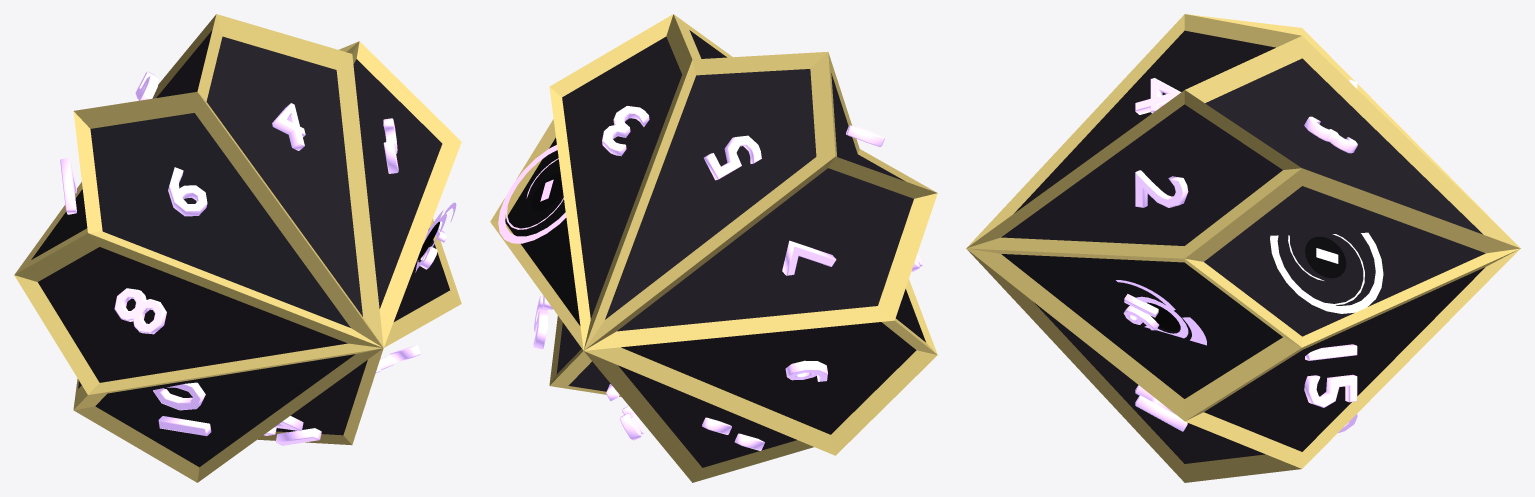
The model's file is d16_black_hole_gold.glb.
3 views of the same model, side by side, from view 1: azimuth 30°, elevation 25°; view 2: azimuth 150°, elevation 25°; view 3: azimuth 270°, elevation 25° (orthographic).
Visible parts, largest first — view 1: D16_BlackHole_Gold; view 2: D16_BlackHole_Gold; view 3: D16_BlackHole_Gold.
Part boxes in pixels (<box>): D16_BlackHole_Gold: <box>14,14,461,482</box>; D16_BlackHole_Gold: <box>490,14,937,482</box>; D16_BlackHole_Gold: <box>966,14,1520,482</box>.
Bounding box in the file's own units: 4.4 × 4.4 × 5.2.
